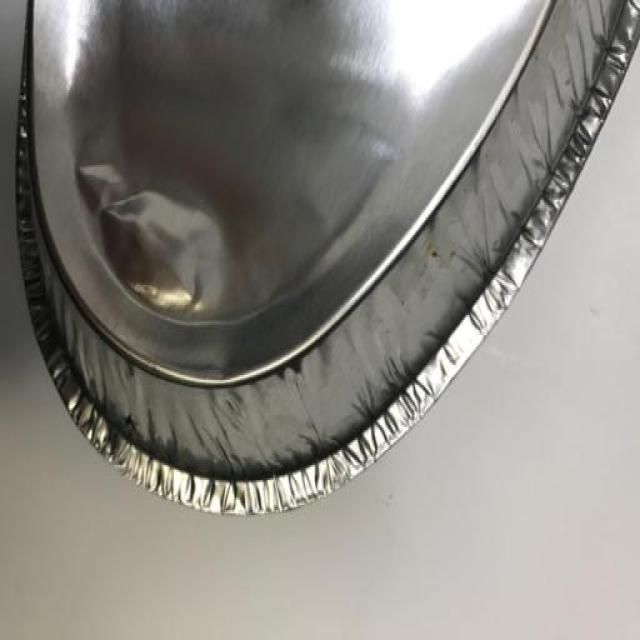Metal: (14, 0, 640, 515)
